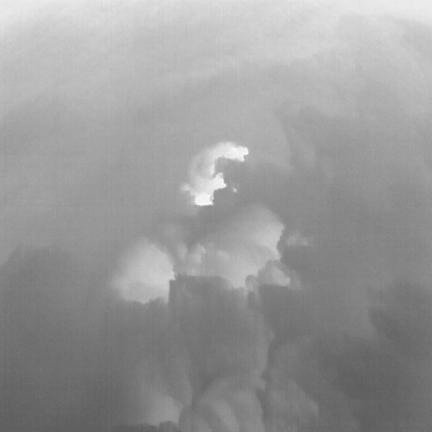flukeprints: (225, 144, 248, 160), (194, 191, 213, 205)
